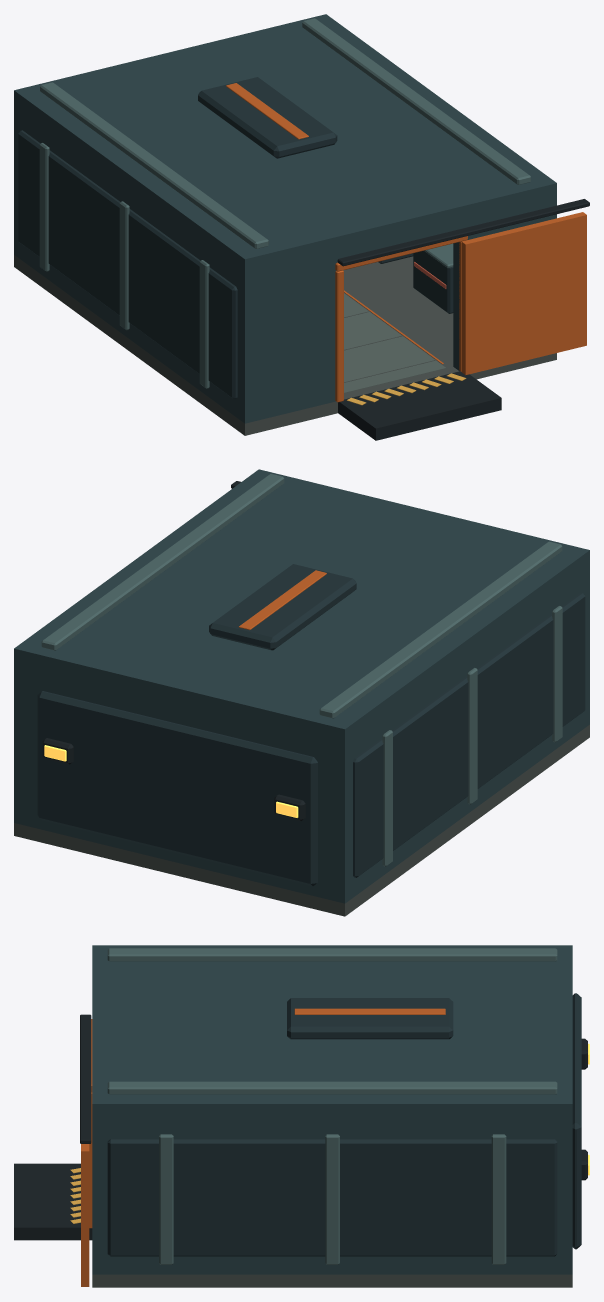
File: submarine_A01.fbx
3 renders of one model, top to bottom at view 1: azimuth 30°, elevation 25°; view 2: azimuth 150°, elevation 25°; view 3: azimuth 270°, elevation 25°, orthographic. The views are drawn at different scales.
Visible parts, largest first — view 1: Ceiling, PortArmor, Hatch, PortAftWall, Deck, PortWall, Landing, RoofSpine, Aisle, PortRoofRail, StarboardRoofRail, StarboardAftWall (+10 smaller); view 2: Ceiling, BowArmor, PortArmor, BowWall, PortWall, Deck, RoofSpine, StarboardRoofRail, PortRoofRail, PortRib1, PortRib2, PortRib3 (+1 smaller); view 3: Ceiling, StarboardArmor, StarboardWall, Deck, StarboardRoofRail, PortRoofRail, RoofSpine, Landing, BowArmor, BowWall, StarboardAftWall, StarboardRib3 (+5 smaller).
Part boxes in pixels (bbox=[...]): Ceiling: bbox=[14, 14, 556, 271]; PortArmor: bbox=[18, 130, 237, 399]; Hatch: bbox=[462, 212, 586, 374]; PortAftWall: bbox=[238, 248, 342, 423]; Deck: bbox=[14, 255, 556, 435]; PortWall: bbox=[14, 105, 255, 423]; Landing: bbox=[338, 371, 501, 440]; RoofSpine: bbox=[198, 77, 337, 158]; Aisle: bbox=[344, 293, 445, 392]; PortRoofRail: bbox=[40, 82, 268, 248]; StarboardRoofRail: bbox=[302, 18, 530, 184]; StarboardAftWall: bbox=[453, 195, 556, 371]; Ceiling: bbox=[14, 469, 589, 742]; BowArmor: bbox=[37, 691, 317, 886]; PortArmor: bbox=[353, 592, 585, 877]; BowWall: bbox=[14, 661, 351, 903]; PortWall: bbox=[333, 563, 589, 903]; Deck: bbox=[14, 724, 589, 916]; RoofSpine: bbox=[209, 564, 356, 650]; StarboardRoofRail: bbox=[41, 474, 284, 650]; PortRoofRail: bbox=[319, 541, 562, 718]; PortRib1: bbox=[552, 606, 562, 742]; PortRib2: bbox=[467, 668, 477, 804]; PortRib3: bbox=[382, 730, 392, 866]; Ceiling: bbox=[92, 945, 572, 1116]; StarboardArmor: bbox=[107, 1139, 557, 1256]; StarboardWall: bbox=[92, 1116, 572, 1274]; Deck: bbox=[92, 1274, 572, 1287]; StarboardRoofRail: bbox=[107, 1081, 557, 1094]; PortRoofRail: bbox=[107, 948, 557, 961]; RoofSpine: bbox=[287, 998, 453, 1039]; Landing: bbox=[14, 1163, 92, 1240]; BowArmor: bbox=[572, 993, 581, 1249]; BowWall: bbox=[559, 1116, 572, 1274]; StarboardAftWall: bbox=[92, 1116, 105, 1274]; StarboardRib3: bbox=[491, 1134, 506, 1264].
Size of the model in its own units: 1775 by 2459 by 969.
